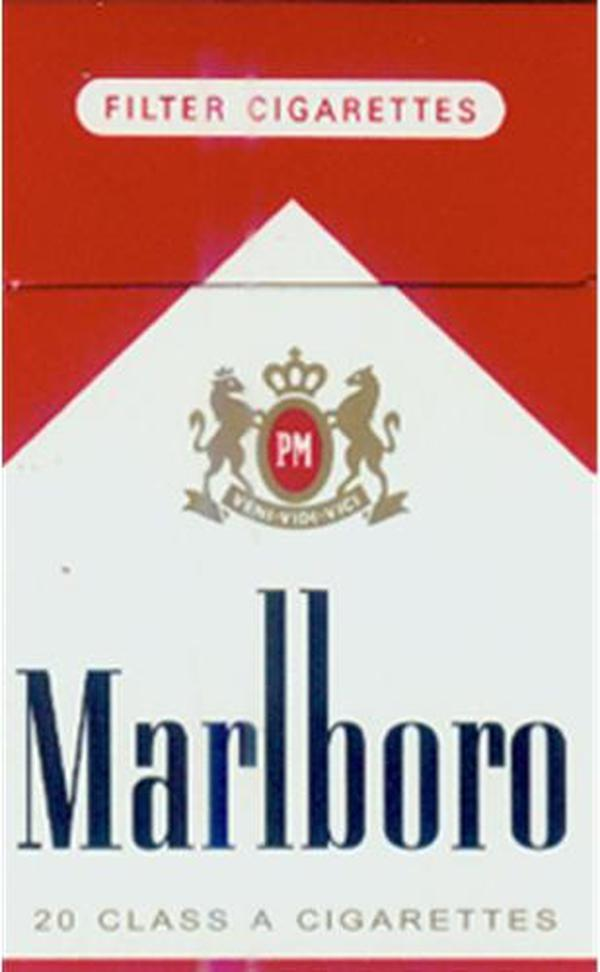marlboro_red: (3, 6, 595, 972)
